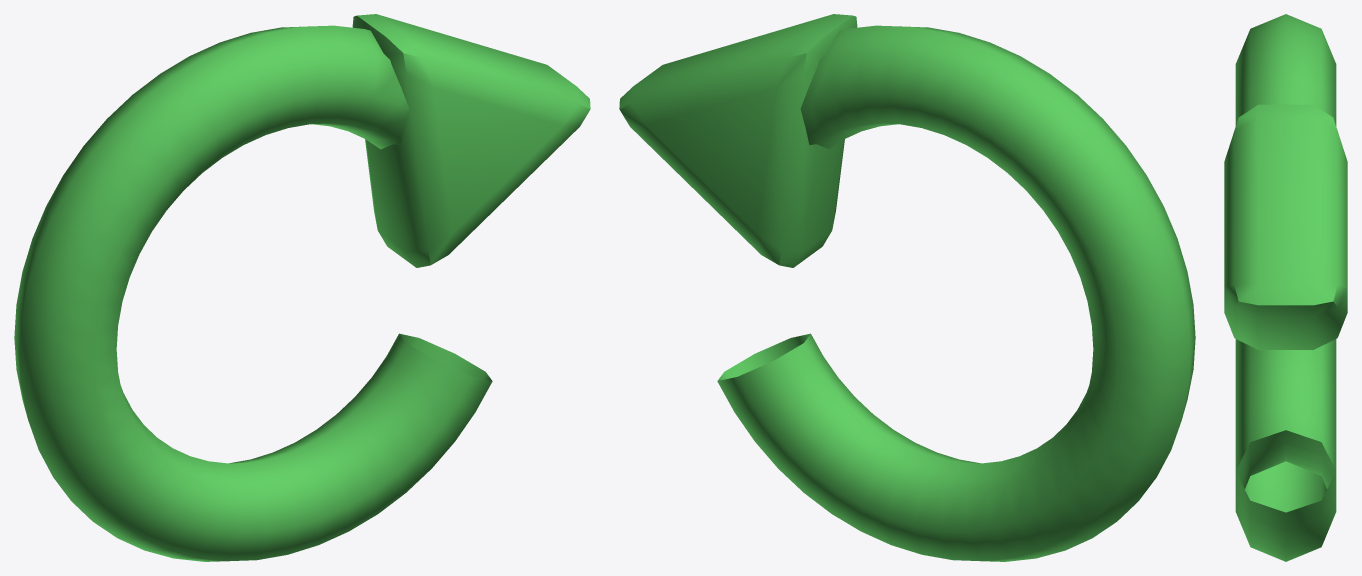
The model's file is icon_restart.glb.
3 renders of one model, left to right at view 1: azimuth 30°, elevation 25°; view 2: azimuth 150°, elevation 25°; view 3: azimuth 270°, elevation 25°, orthographic. The views are drawn at different scales.
Parts seen in each view (by area): view 1: Restart; view 2: Restart; view 3: Restart.
Boxes of the visible parts, box(x1,y1,x2,y2) form: Restart: box(14, 14, 590, 561); Restart: box(619, 14, 1195, 561); Restart: box(1224, 14, 1347, 561).
Bounding box in the file's own units: 1.09 × 0.98 × 0.22.
Materials: 1 (1 with a texture image).
